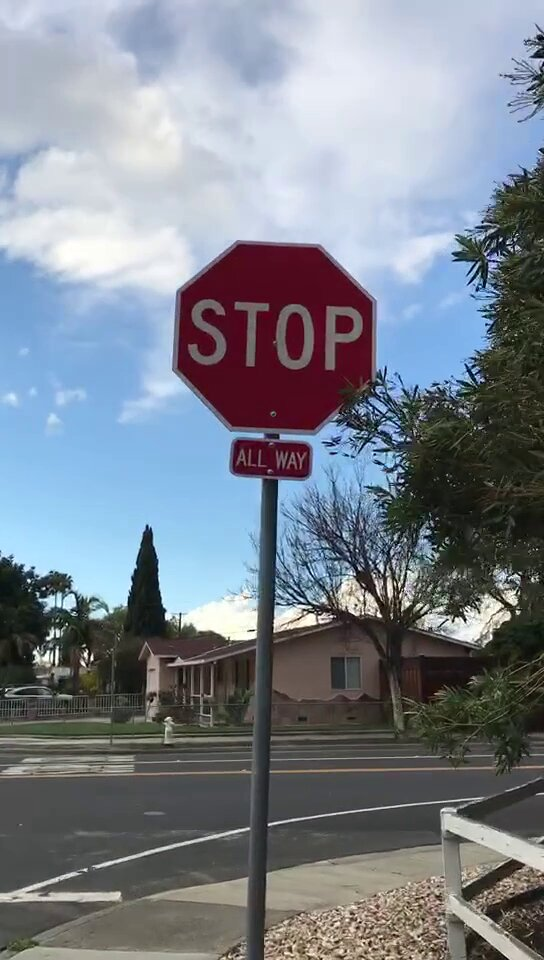stop_sign: (175, 241, 375, 432)
